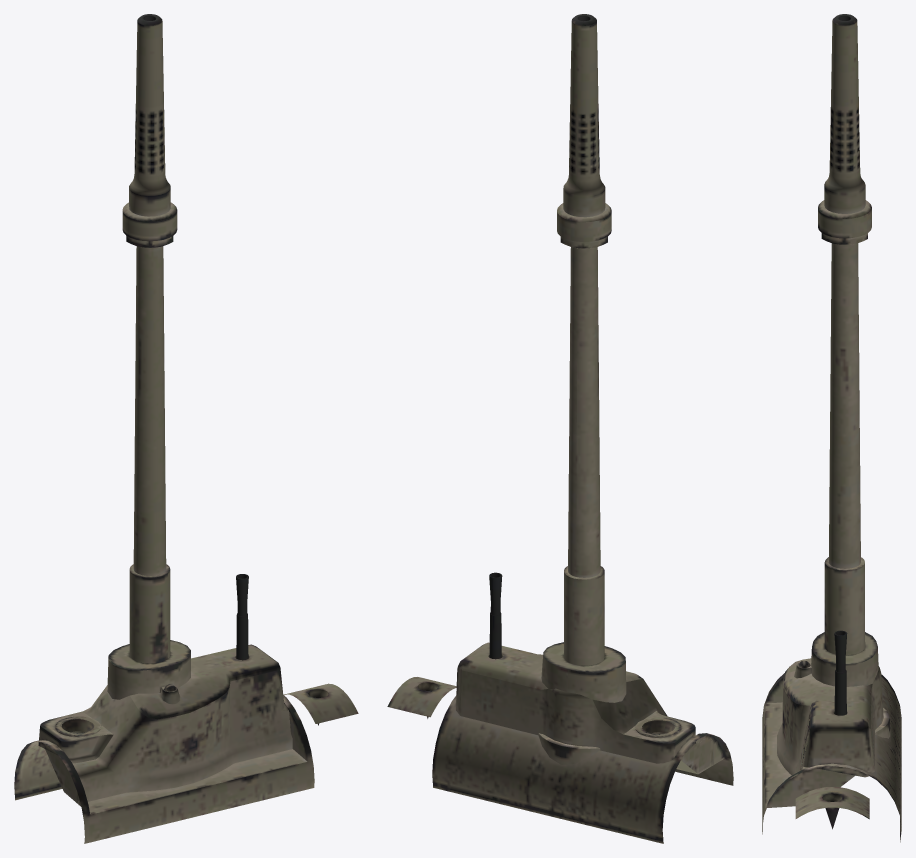
The model's file is Gun_02.glb.
3 renders of one model, left to right at view 1: azimuth 30°, elevation 25°; view 2: azimuth 150°, elevation 25°; view 3: azimuth 270°, elevation 25°, orthographic.
Visible parts, largest first — view 1: set_0_group_0; view 2: set_0_group_0; view 3: set_0_group_0.
Boxes of the visible parts, x1=… form: set_0_group_0: x1=14, y1=14, x2=358, y2=843; set_0_group_0: x1=387, y1=14, x2=733, y2=843; set_0_group_0: x1=762, y1=14, x2=901, y2=842.
Size of the model in its own units: 0.8015 by 2.05 by 0.3373.
Materials: 1 (1 with a texture image).
